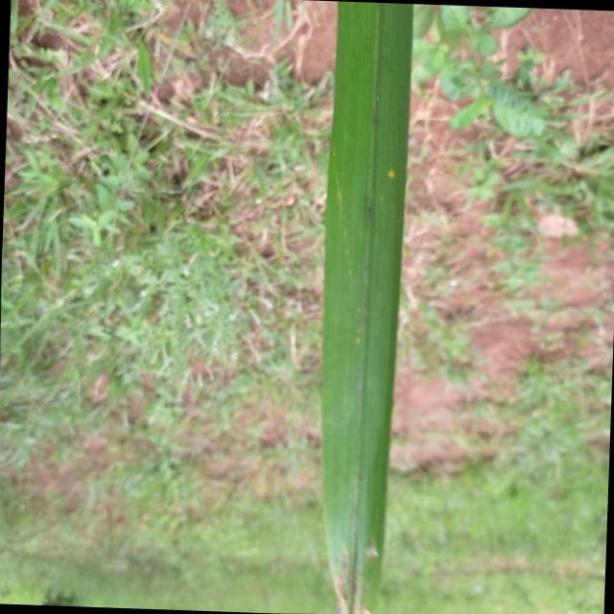Kalium: (317, 0, 417, 614)
